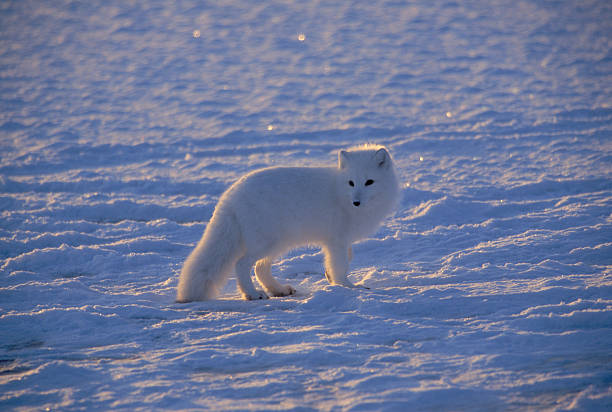arcticfox: (336, 157, 394, 223)
